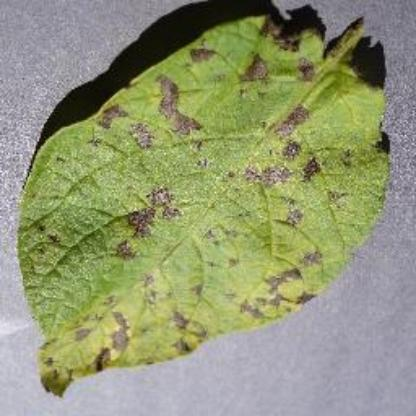Early-Blight: (17, 5, 402, 397)
